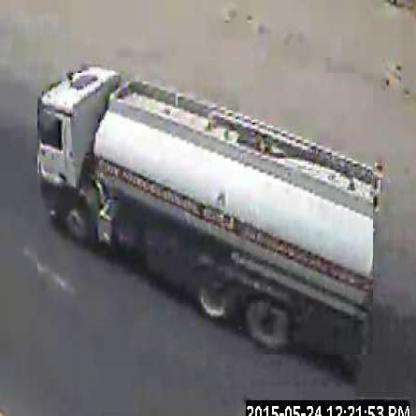truck: (38, 74, 375, 357)
